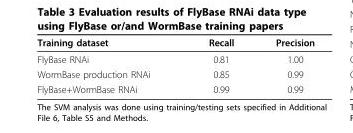table: (36, 36, 314, 94)
table column: (36, 36, 178, 94), (178, 36, 254, 94), (254, 36, 314, 94)
table column header: (36, 36, 314, 50)
table row: (36, 50, 314, 66), (36, 66, 314, 81), (36, 36, 314, 50), (36, 81, 314, 94)
